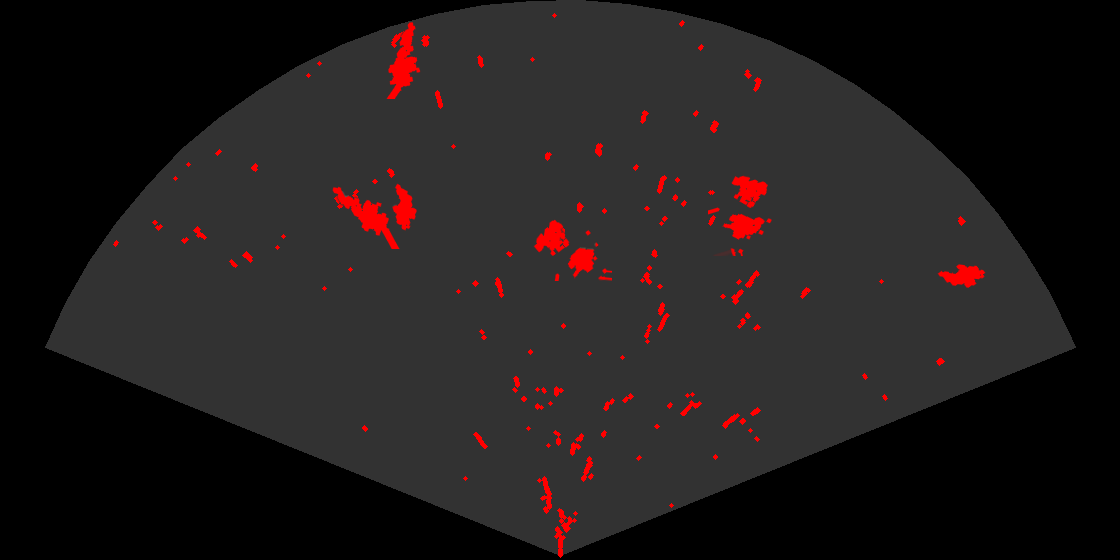AUV: (391, 182, 418, 232), (936, 263, 987, 289)
cage: (708, 174, 773, 256), (532, 218, 612, 281)
frogman: (331, 185, 400, 249), (385, 21, 422, 99)
